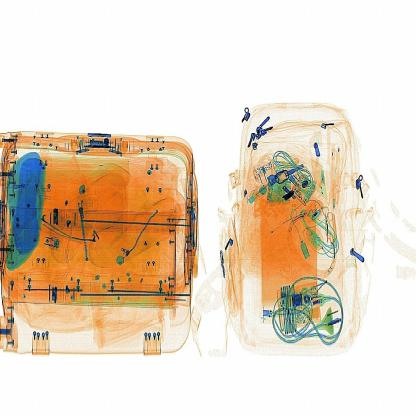knife: (278, 180, 305, 212)
